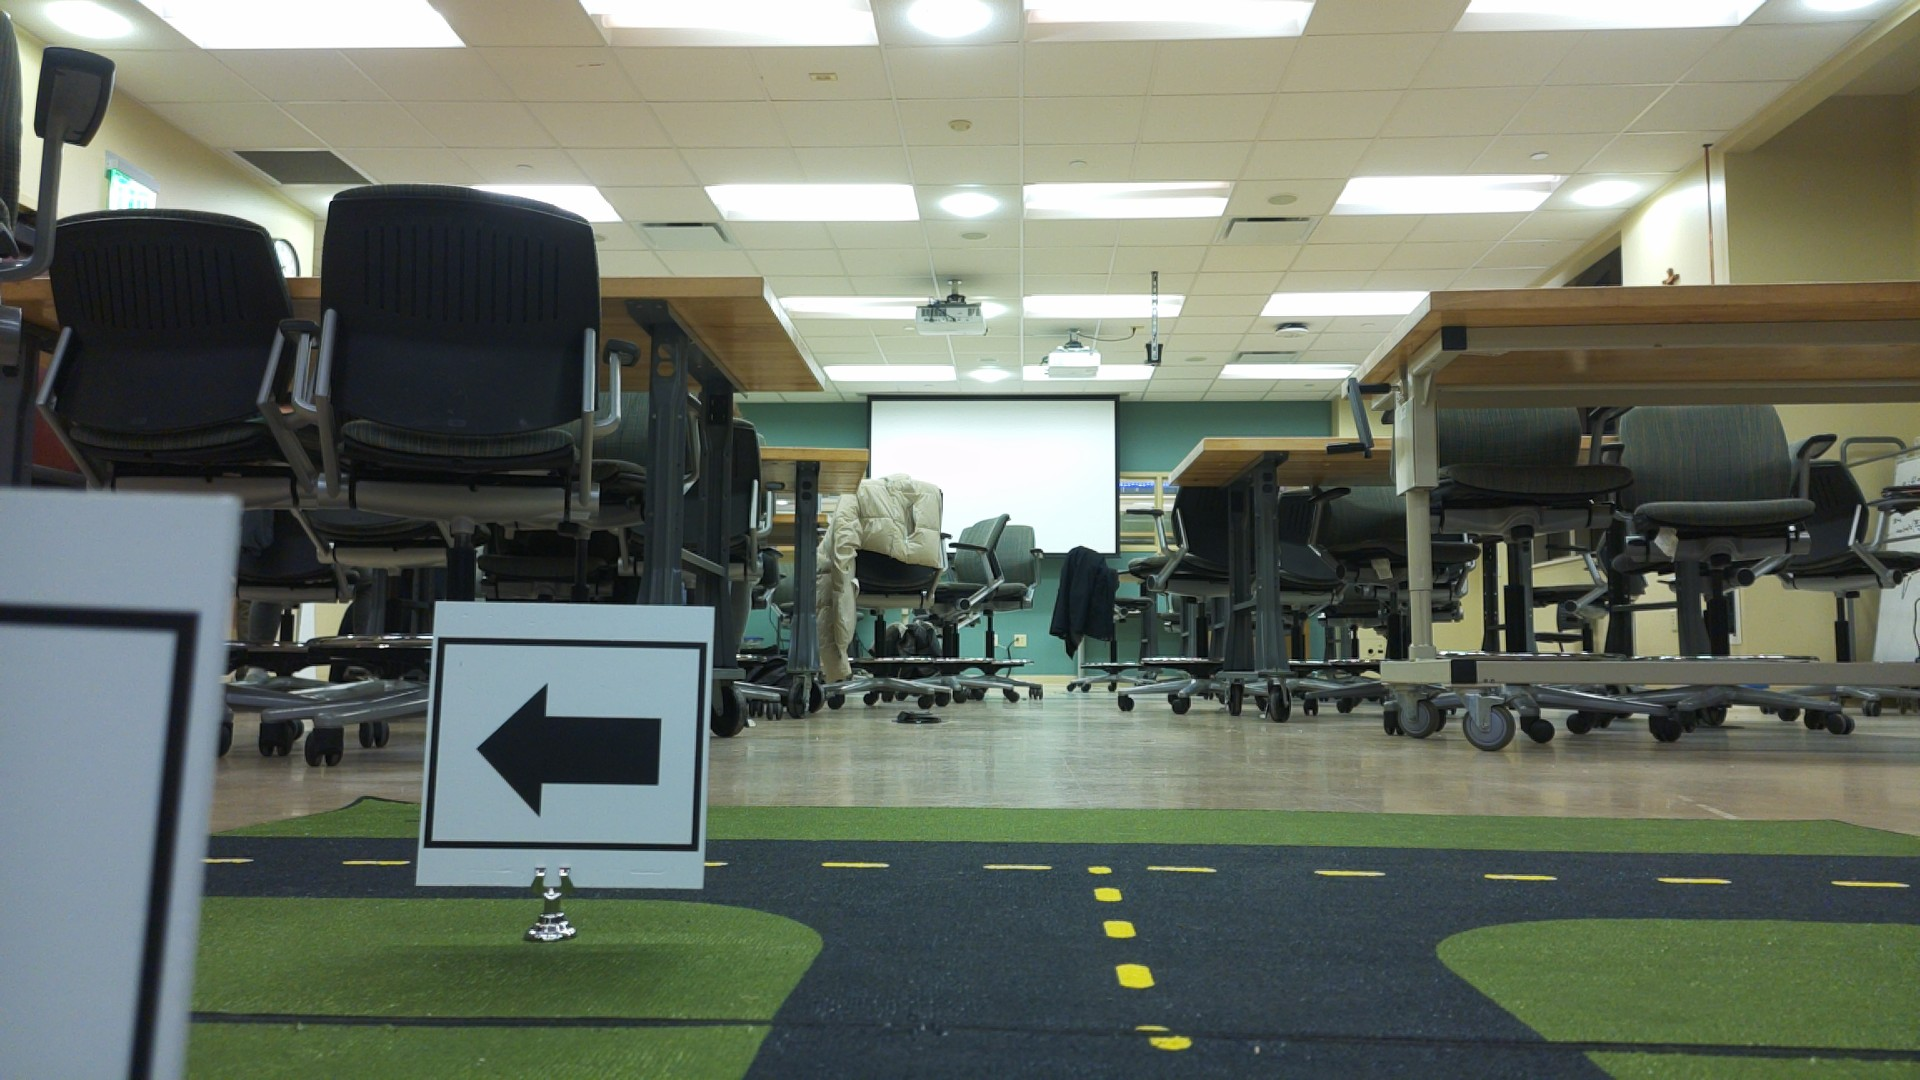turnleft: (434, 607, 698, 890)
